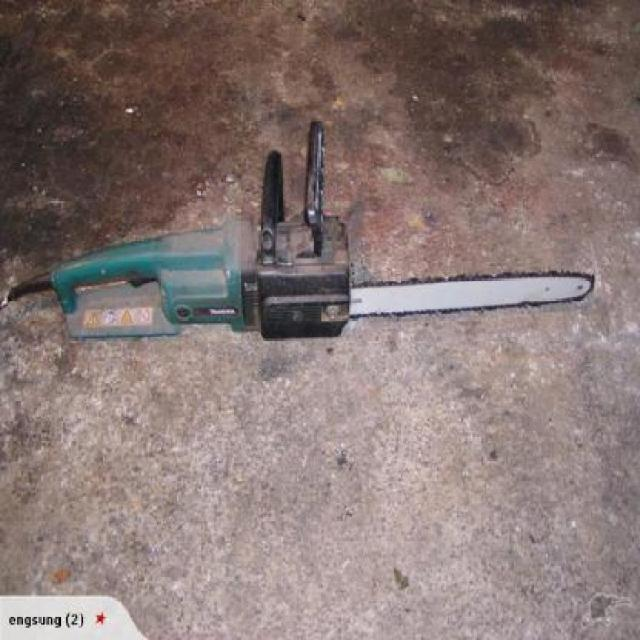Chainsaw: (39, 122, 606, 363)
